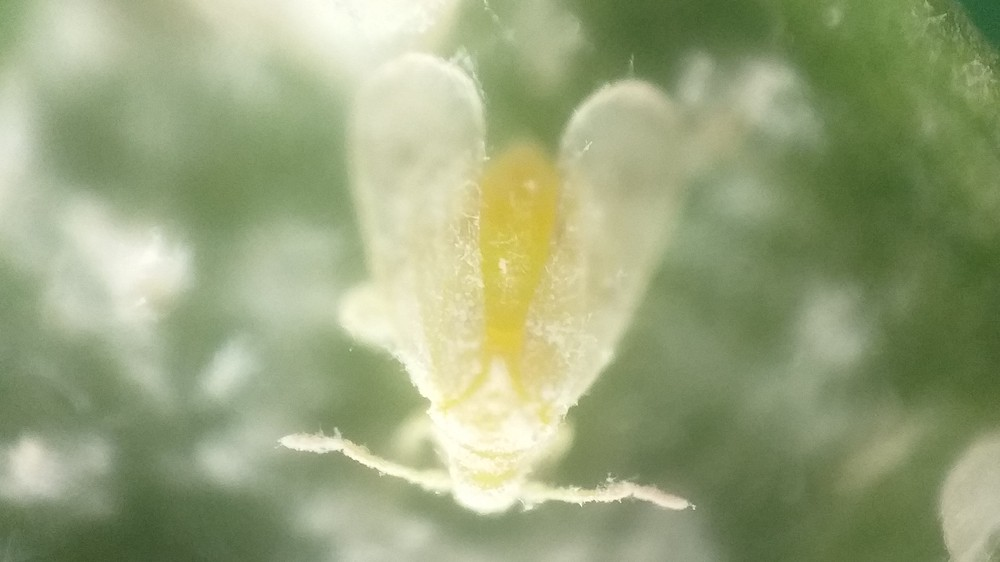Mosca Blanca: (268, 50, 707, 531)
